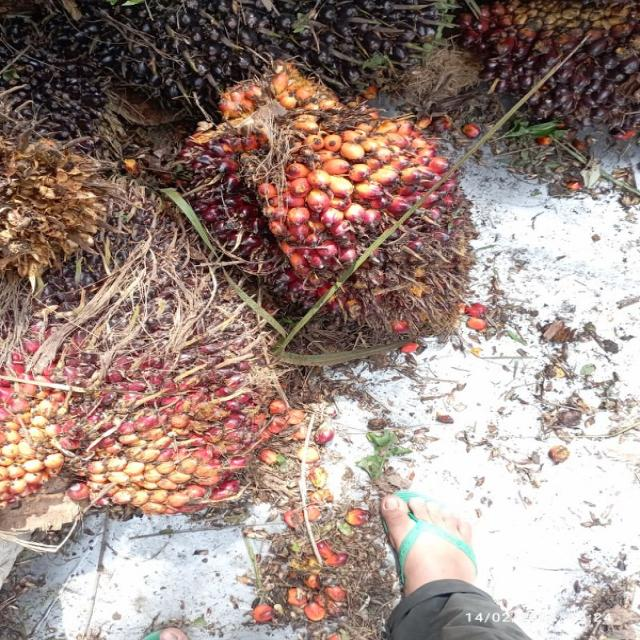fraksi 1: (0, 247, 289, 517)
fraksi 3: (200, 68, 501, 337)
